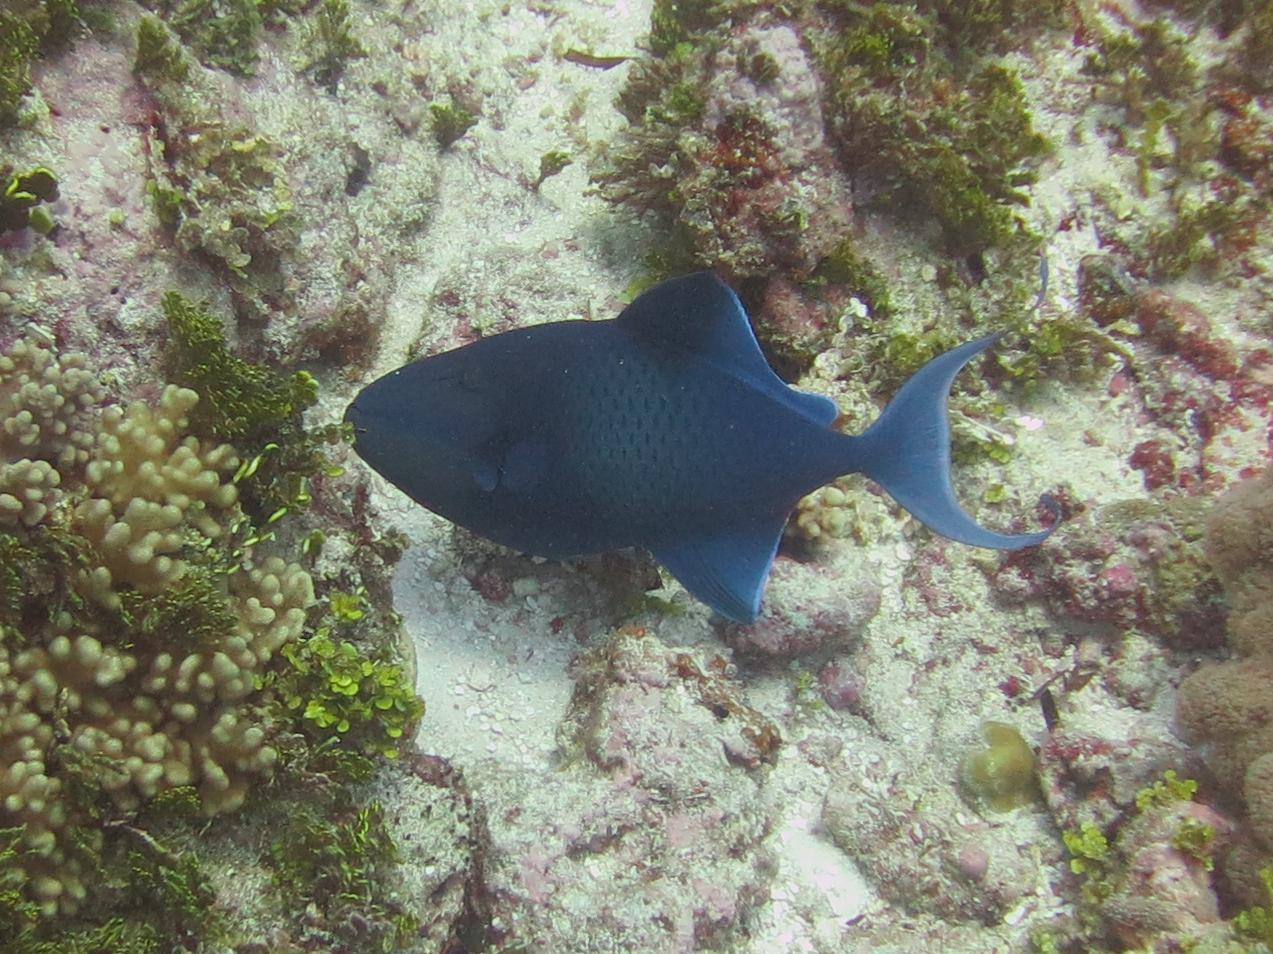Odonus niger: (350, 262, 1059, 624)
